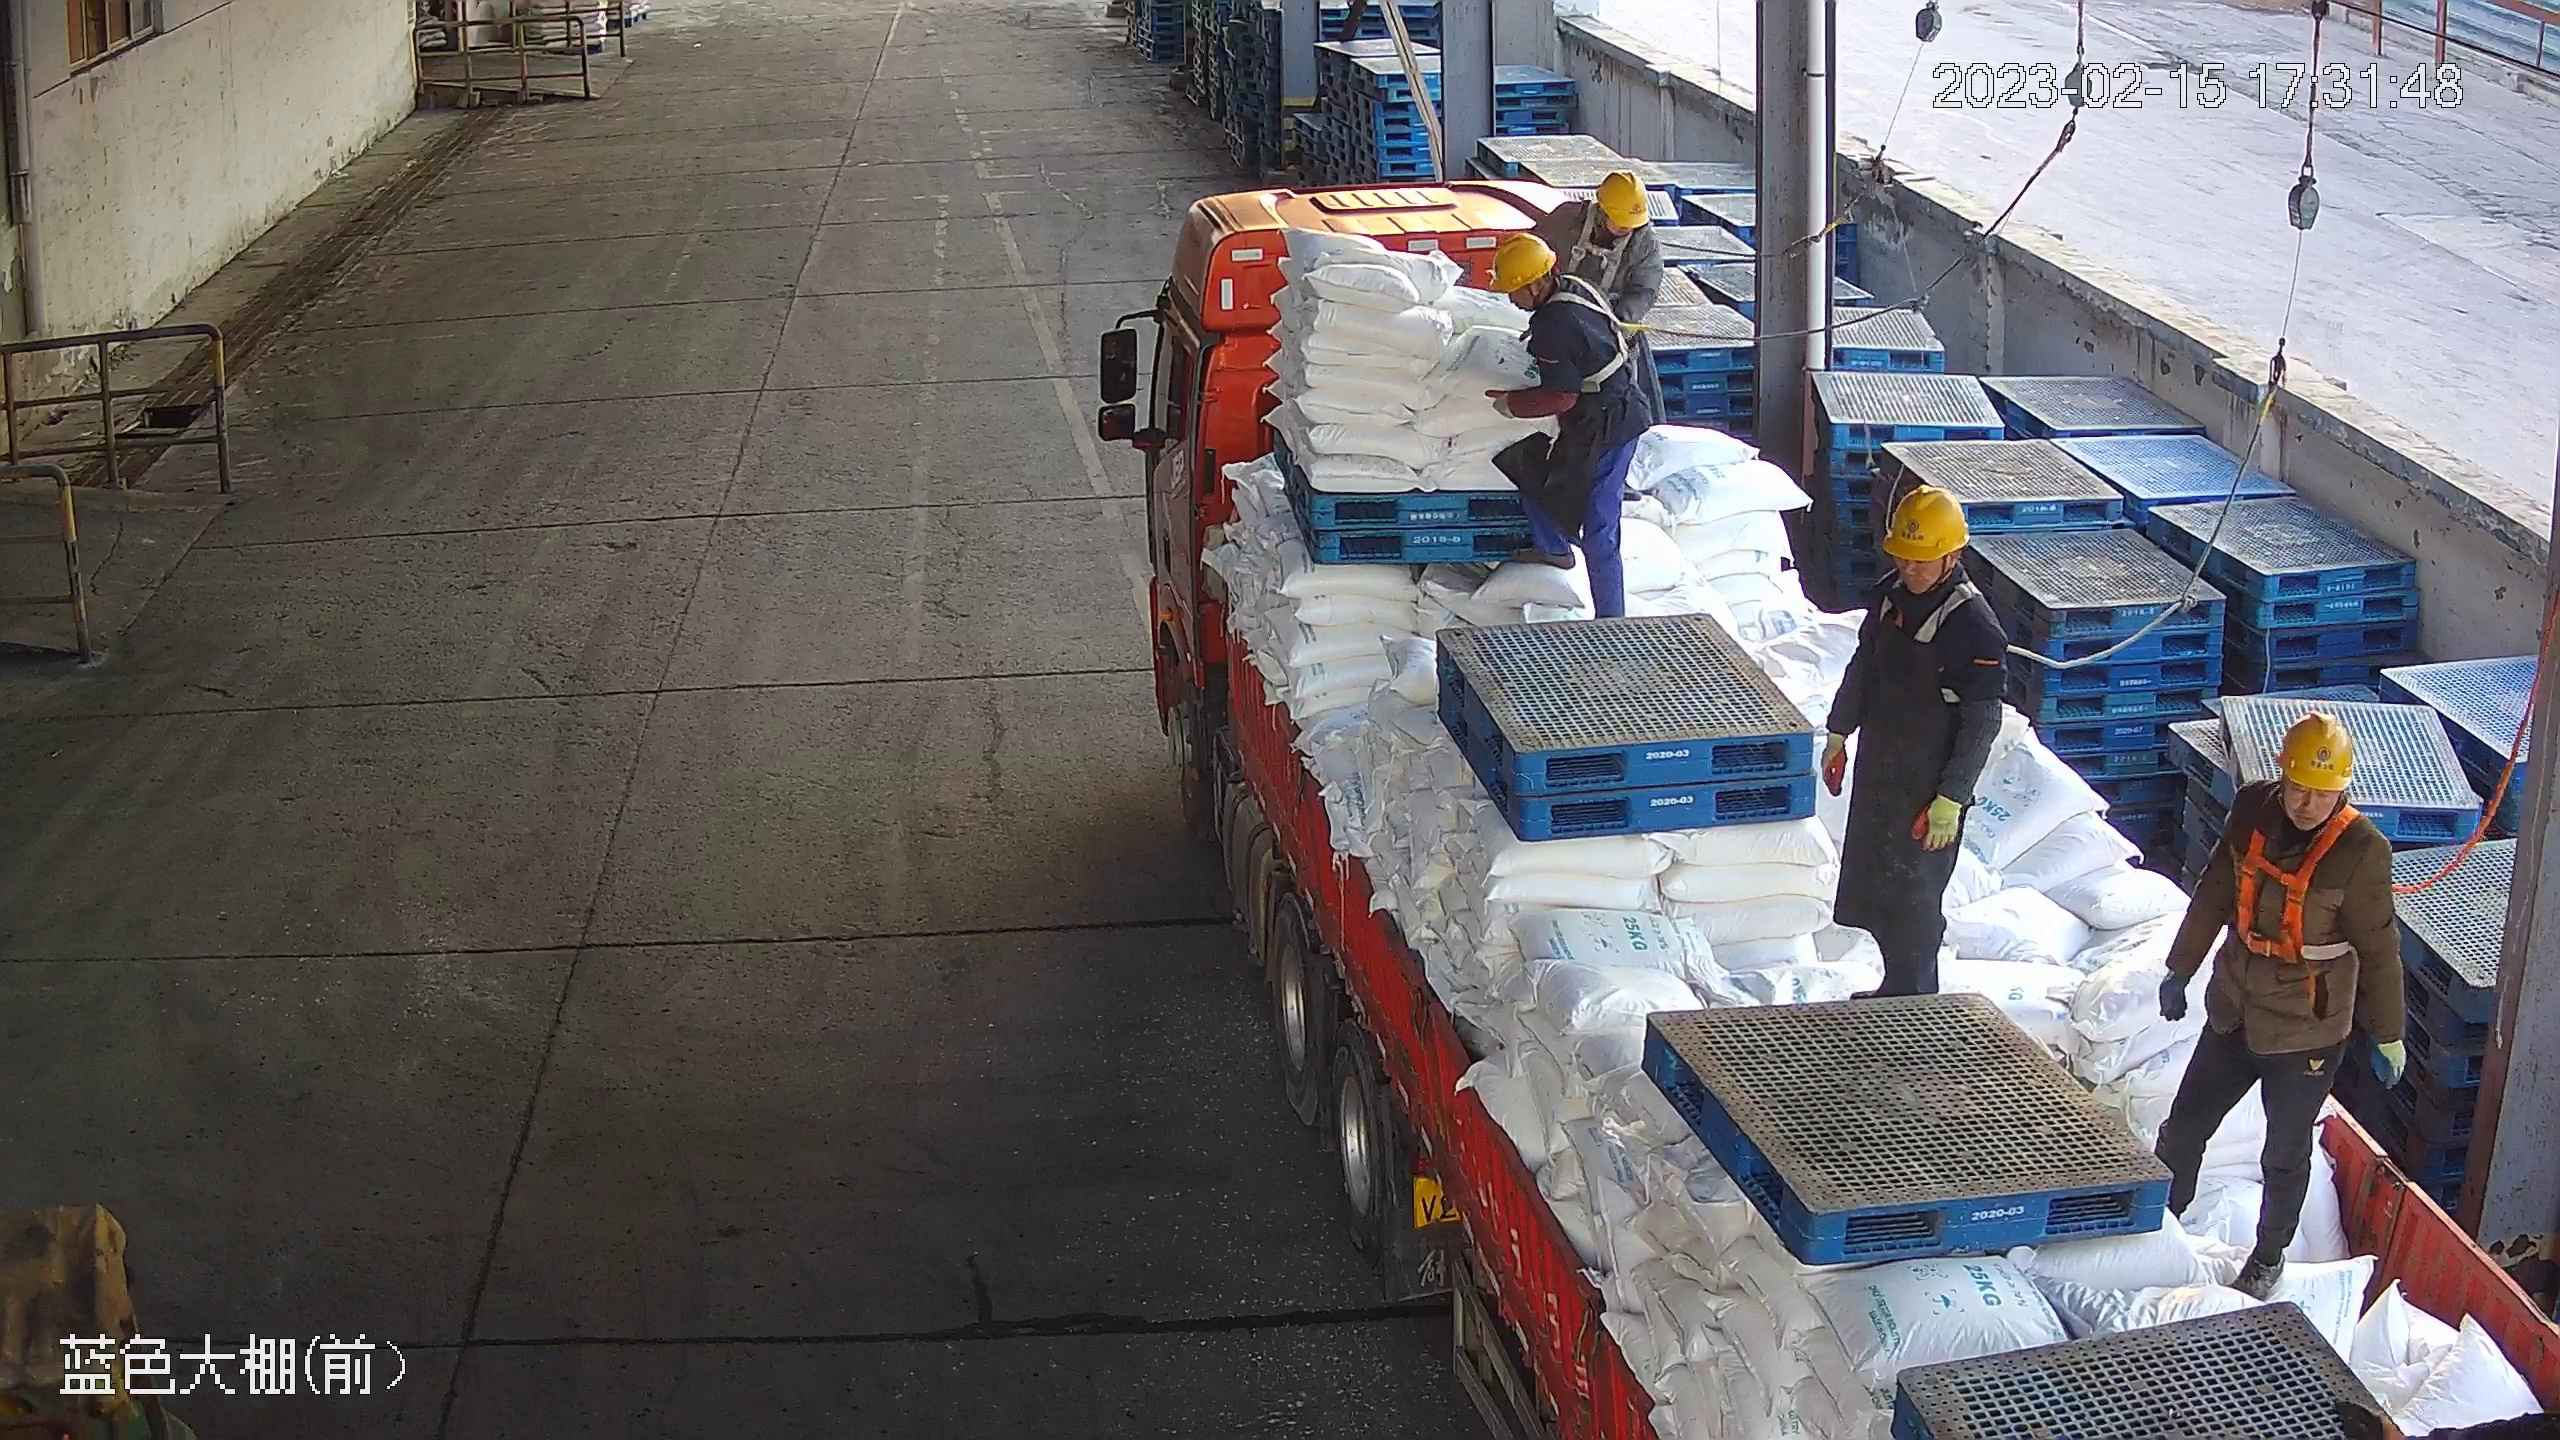belt: (2224, 779, 2425, 965), (1865, 563, 2051, 705), (1533, 271, 1665, 394), (1566, 200, 1650, 299)
head: (2223, 710, 2394, 867), (1864, 481, 2006, 664), (1485, 230, 1624, 342), (1552, 170, 1660, 252)
helmet: (1880, 483, 1970, 563), (2276, 711, 2354, 792), (1486, 230, 1557, 293), (1595, 171, 1652, 229)
people: (2152, 709, 2411, 1299), (1820, 481, 2010, 1005), (1487, 227, 1653, 625)
truck: (1140, 175, 2560, 1440)
